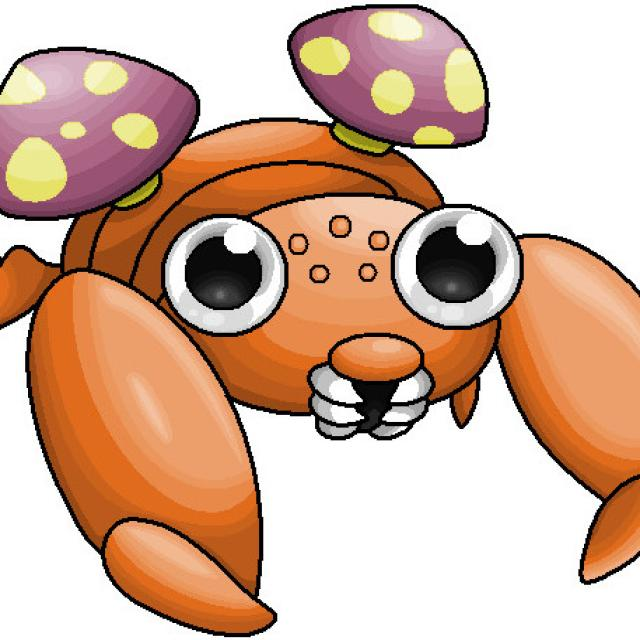Paras: (8, 0, 587, 434)
